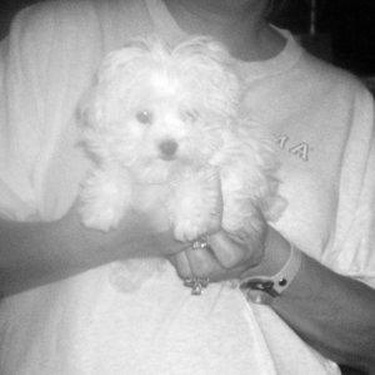dog: (23, 18, 296, 302)
